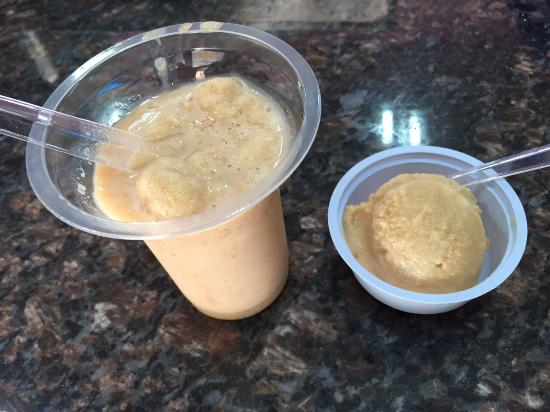jigirthanda: (66, 72, 295, 328), (367, 178, 506, 288)
